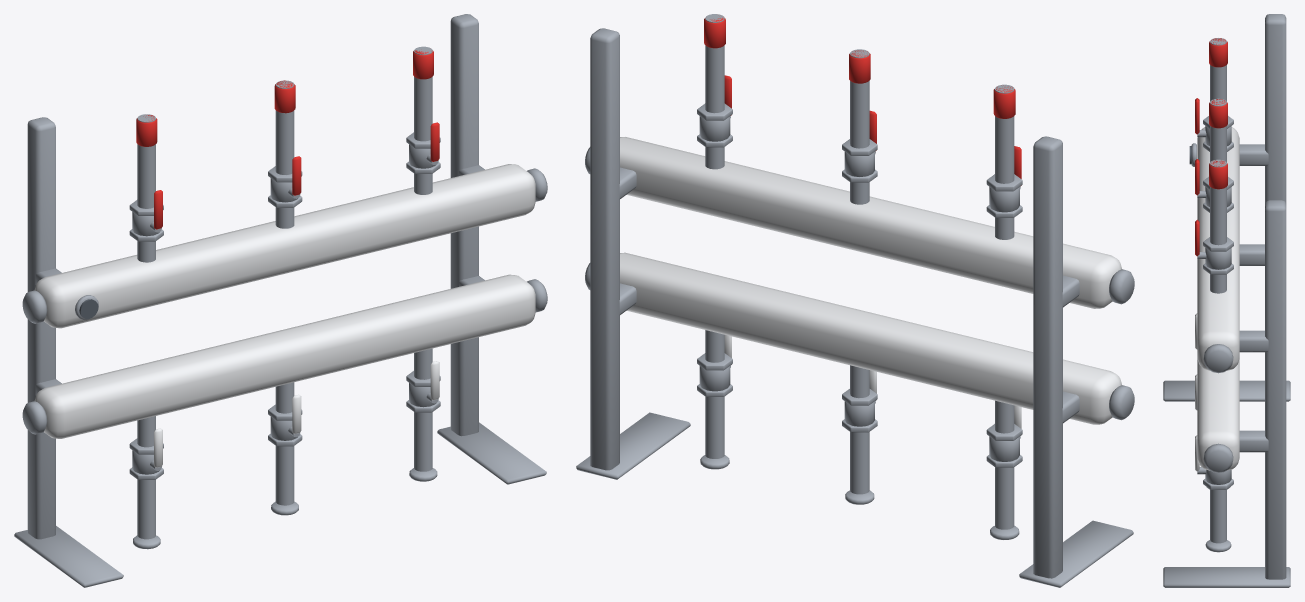
File: heizung.verteiler.n3.glb
The picture shows the model from 3 angles, left to right: view 1: azimuth 30°, elevation 25°; view 2: azimuth 150°, elevation 25°; view 3: azimuth 270°, elevation 25°; orthographic projection. The views are drawn at different scales.
Parts seen in each view (by area): view 1: heizung.verteiler.n3; view 2: heizung.verteiler.n3; view 3: heizung.verteiler.n3.
Part boxes in pixels (x1=…): heizung.verteiler.n3: x1=14, y1=14, x2=547, y2=587; heizung.verteiler.n3: x1=576, y1=14, x2=1134, y2=587; heizung.verteiler.n3: x1=1163, y1=14, x2=1290, y2=587.
Size of the model in its own units: 1.26 by 1 by 0.3.
